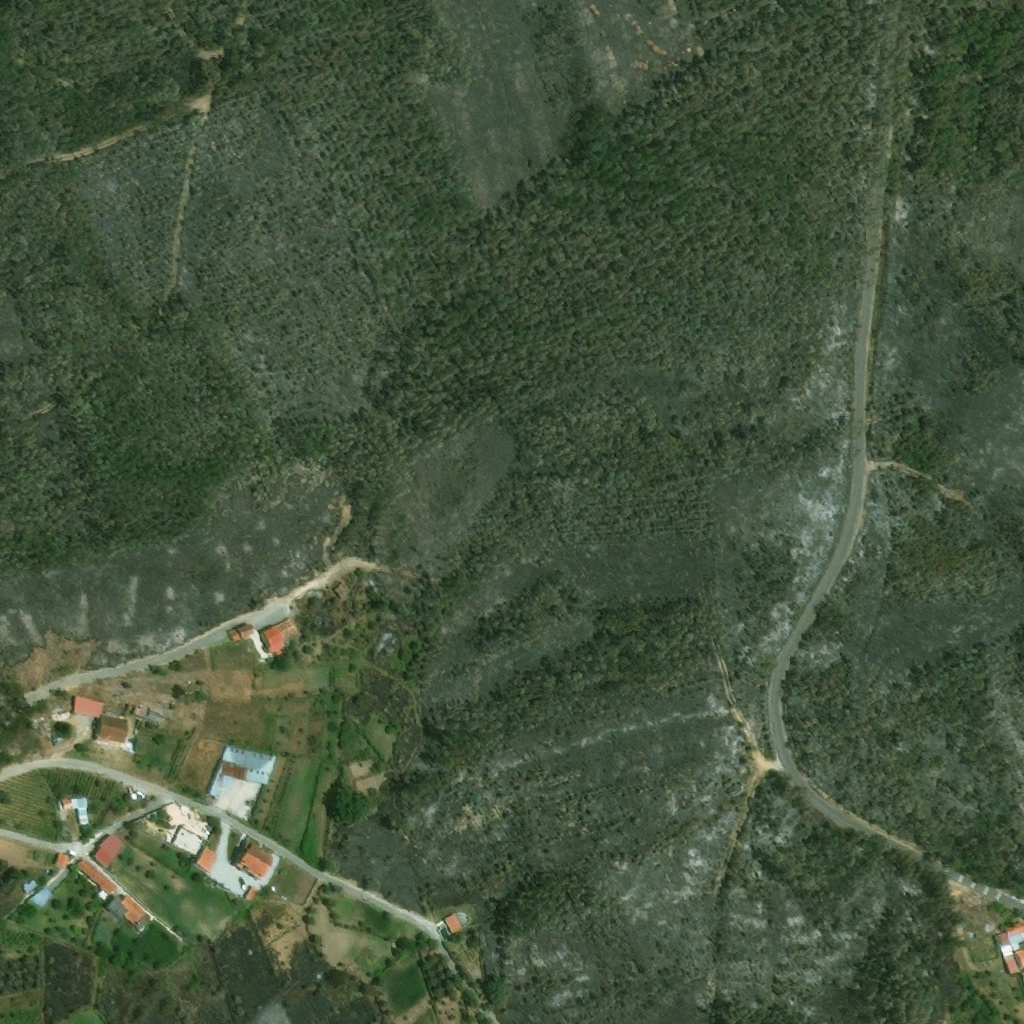0 no-damage: (208, 744, 279, 798), (105, 893, 152, 932), (994, 923, 1023, 985), (260, 616, 301, 657), (75, 857, 119, 895), (235, 841, 274, 881), (96, 714, 130, 745), (59, 796, 91, 827), (98, 831, 128, 860), (74, 695, 105, 718), (194, 845, 217, 871), (29, 888, 56, 908), (445, 912, 464, 935), (229, 624, 256, 640), (22, 878, 40, 893), (148, 708, 166, 722), (334, 583, 350, 598), (56, 854, 72, 868), (202, 826, 212, 836), (132, 707, 141, 713)
